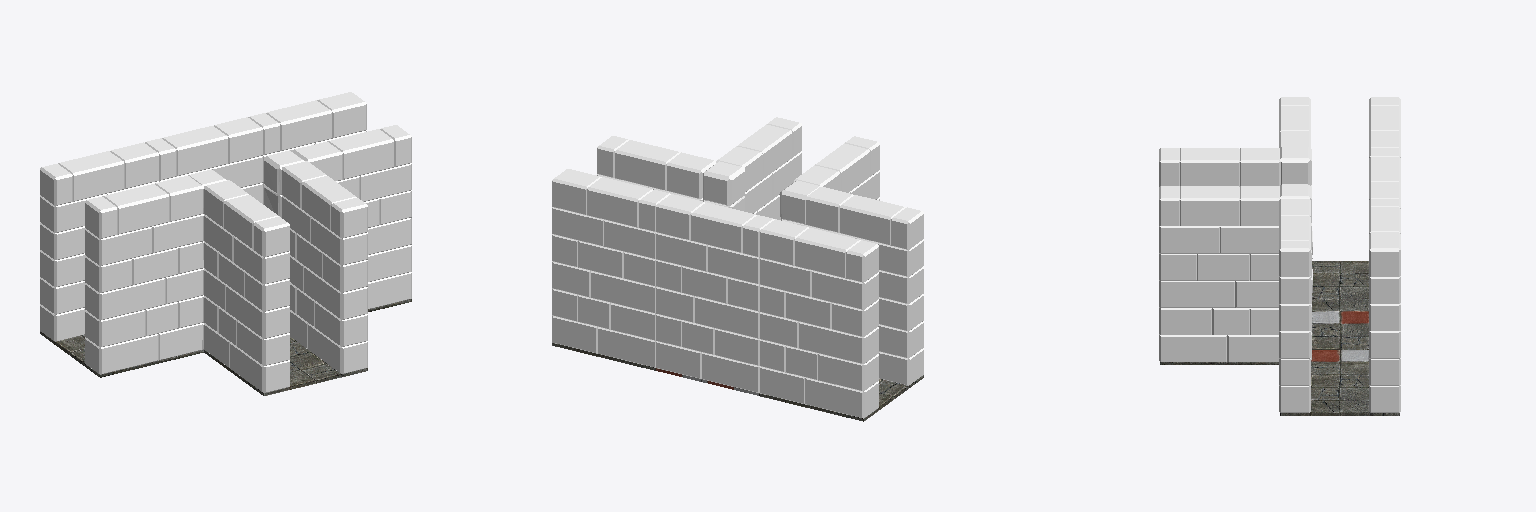
3 views of the same model, side by side, from view 1: azimuth 30°, elevation 25°; view 2: azimuth 150°, elevation 25°; view 3: azimuth 270°, elevation 25° (orthographic).
Parts seen in each view (by area): view 1: Box4153, Box4149, Box4139, Box4150, Box4154, Box4132, Box3452, Box030, Box4152, Box024, Box4151; view 2: Box4150, Box4132, Box3452, Box4153, Box4139, Box4154, Box4149, Box4152, Box4151, Box024; view 3: Box4139, Box3452, Box4154, Box4149, Box026, Box00234, Box024, Box4132, Box4150, Box4153, Box4151, Box4152.
Boxes of the visible parts, box(x1,y1,x2,y2) form: Box4153: box(85, 176, 203, 374); Box4149: box(204, 180, 289, 392); Box4139: box(282, 161, 367, 373); Box4150: box(40, 142, 158, 341); Box4154: box(293, 125, 411, 308); Box4132: box(145, 117, 262, 203); Box3452: box(248, 92, 366, 204); Box030: box(204, 337, 367, 395); Box4152: box(264, 150, 304, 217); Box024: box(40, 331, 203, 377); Box4151: box(188, 169, 226, 350); Box4150: box(760, 219, 878, 418); Box4132: box(656, 194, 774, 392); Box3452: box(552, 169, 670, 367); Box4153: box(805, 187, 923, 385); Box4139: box(716, 117, 801, 219); Box4154: box(597, 136, 715, 200); Box4149: box(794, 136, 879, 200); Box4152: box(703, 161, 744, 211); Box4151: box(780, 180, 820, 225); Box024: box(759, 375, 923, 421); Box4139: box(1159, 186, 1279, 361); Box3452: box(1369, 199, 1400, 412); Box4154: box(1279, 199, 1310, 412); Box4149: box(1159, 148, 1280, 186); Box026: box(1280, 362, 1399, 415); Box00234: box(1311, 311, 1368, 361); Box024: box(1312, 261, 1368, 310); Box4132: box(1369, 148, 1400, 199); Box4150: box(1369, 97, 1400, 148); Box4153: box(1279, 97, 1310, 148); Box4151: box(1280, 146, 1312, 258); Box4152: box(1280, 184, 1312, 359).
Size of the model in its own units: 6.04 by 3.08 by 4.04.
3 materials, 2 textured.